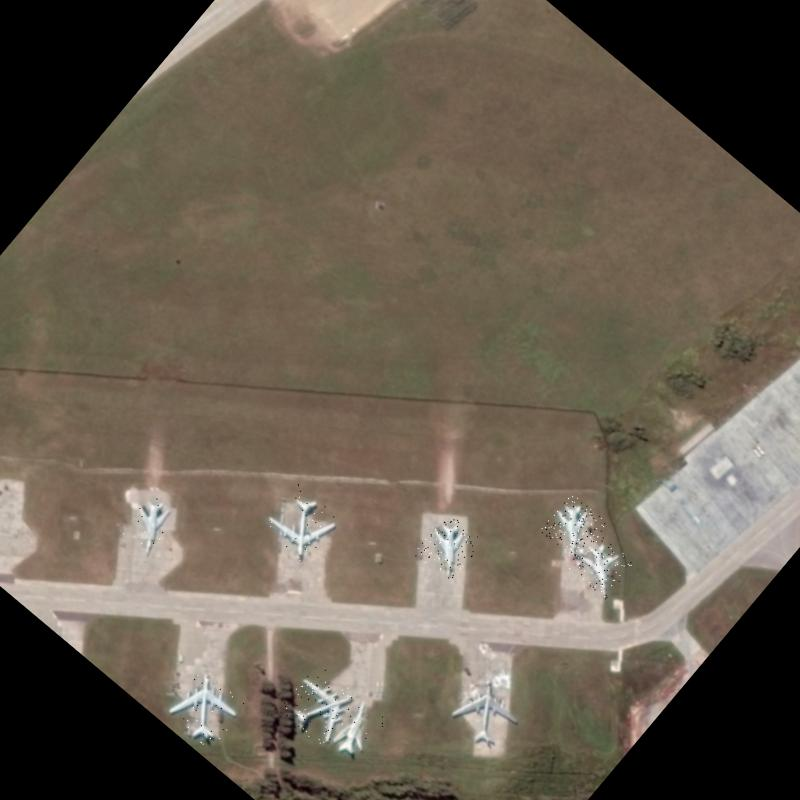A12: (412, 511, 483, 584), (539, 492, 608, 561), (568, 532, 636, 600), (327, 697, 393, 765), (118, 491, 184, 559)
A17: (162, 665, 251, 754), (276, 662, 364, 750), (445, 671, 532, 758), (259, 482, 343, 566)
